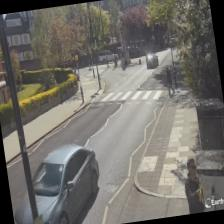person: (180, 156, 205, 214)
